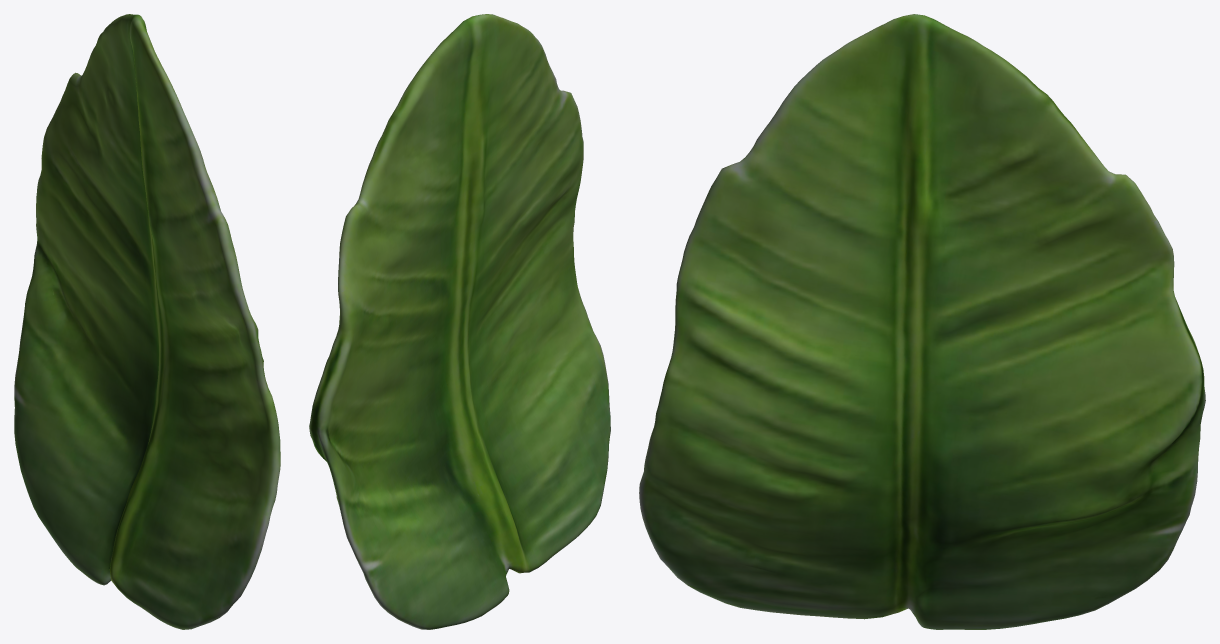
File: a35ea1d11f58_big_banana_leaf__3d.fbx
3 views of the same model, side by side, from view 1: azimuth 30°, elevation 25°; view 2: azimuth 150°, elevation 25°; view 3: azimuth 270°, elevation 25° (orthographic). The views are drawn at different scales.
Visible parts, largest first — view 1: mesh; view 2: mesh; view 3: mesh.
Part boxes in pixels (x1,y1,x2,y2): mesh: (14,14,280,629); mesh: (309,14,610,629); mesh: (639,14,1205,629).
Size of the model in its own units: 15.64 by 99.59 by 80.92.
